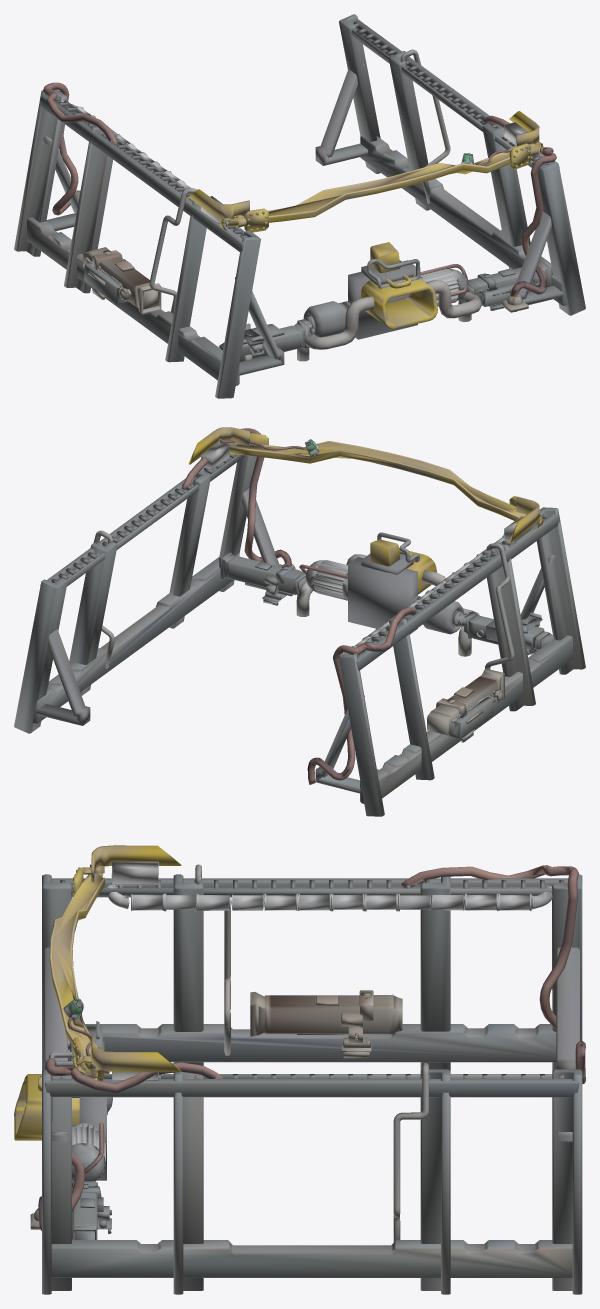
Rendered from electric-mining-drill.0.glb.
3 views of the same model, one above another, from view 1: azimuth 30°, elevation 25°; view 2: azimuth 150°, elevation 25°; view 3: azimuth 270°, elevation 25° (orthographic). The views are drawn at different scales.
Parts seen in each view (by area): view 1: modelo; view 2: modelo; view 3: modelo.
Boxes of the visible parts, x1,y1,x2,y2 form: modelo: (14, 14, 585, 398); modelo: (14, 427, 585, 816); modelo: (14, 845, 585, 1294).
Size of the model in its own units: 6.02 by 2.69 by 6.03.
